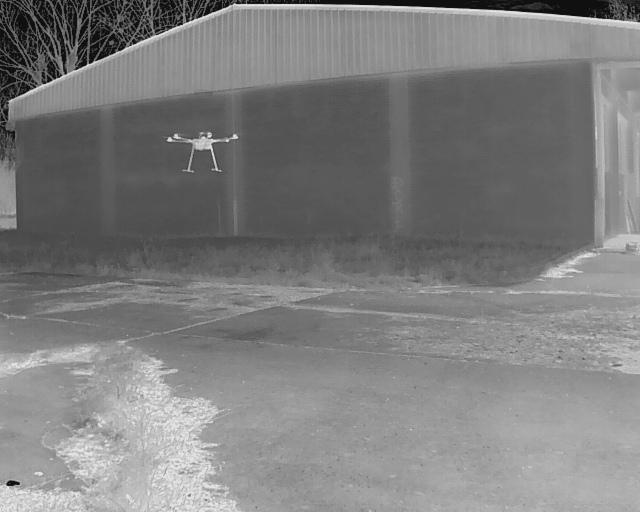drone: (166, 125, 248, 180)
